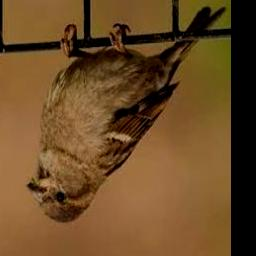Sparrow: (27, 7, 225, 223)
